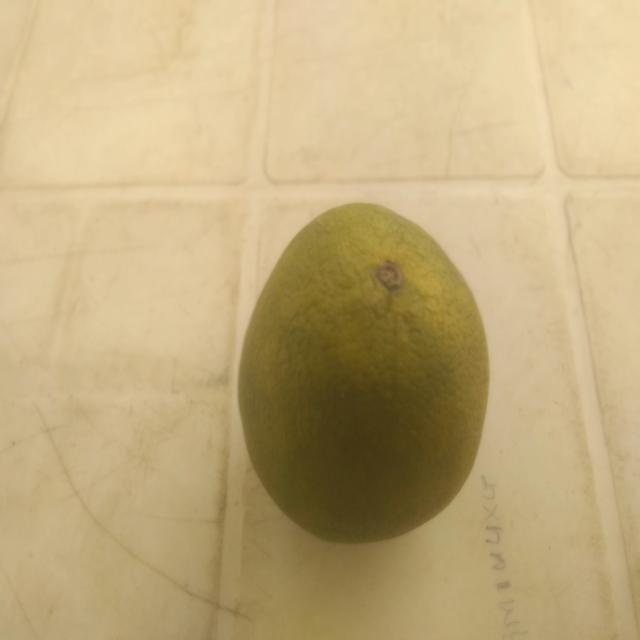agrume: (216, 162, 528, 562)
